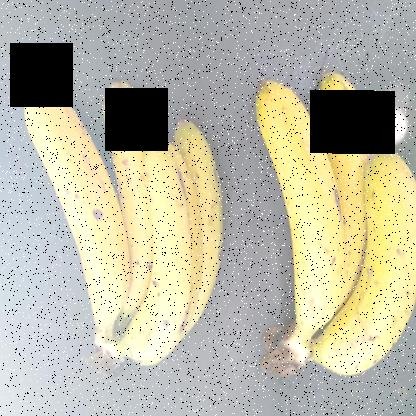ripe: (20, 85, 144, 333), (248, 74, 343, 325), (333, 162, 415, 382), (135, 136, 201, 346)
